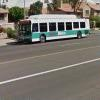Bus: (12, 13, 94, 47)
